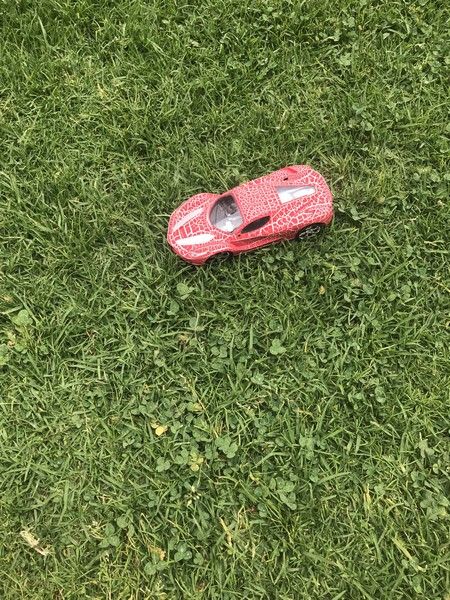RC: (164, 162, 339, 270)
